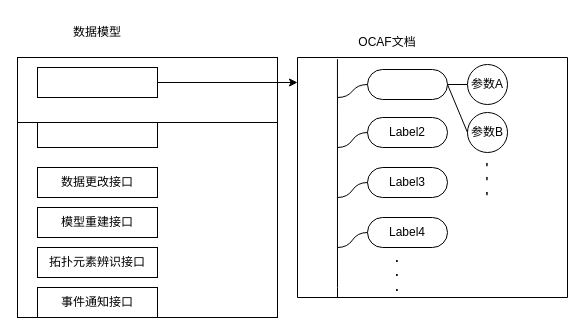
This 585x335 diagram has some shape labels left out. The shapes that lost their labels are listed below. From the top down, each one's centre as x and y in pixels, then its label:
At pixel 97 82: "特征对象容器".
At pixel 407 84: "Label1".
At pixel 97 135: "数据获取接口".
